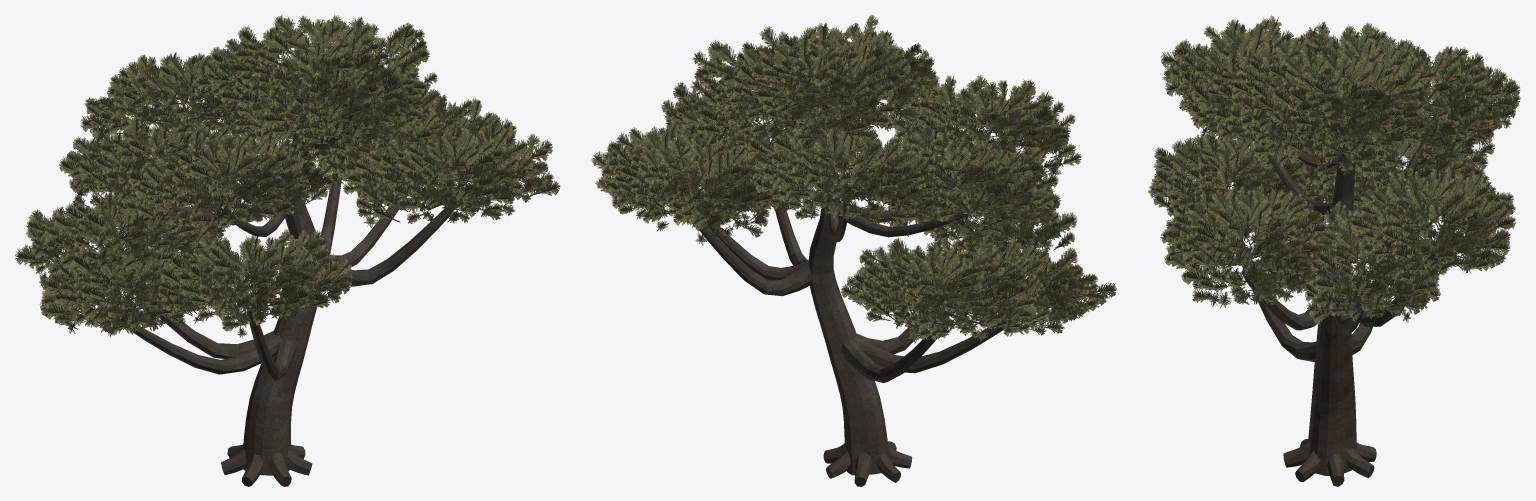
The model's file is pine-hero.glb.
3 renders of one model, left to right at view 1: azimuth 30°, elevation 25°; view 2: azimuth 150°, elevation 25°; view 3: azimuth 270°, elevation 25°, orthographic. The views are drawn at different scales.
Visible parts, largest first — view 1: pine-hero_Needles, pine-hero_Bark; view 2: pine-hero_Needles, pine-hero_Bark; view 3: pine-hero_Needles, pine-hero_Bark.
Part boxes in pixels (x1,y1,x2,y2): pine-hero_Needles: (15, 14, 560, 337); pine-hero_Bark: (121, 99, 467, 486); pine-hero_Needles: (590, 14, 1117, 343); pine-hero_Bark: (698, 91, 1011, 486); pine-hero_Needles: (1147, 14, 1520, 324); pine-hero_Bark: (1218, 113, 1436, 486).
Bounding box in the file's own units: 10 × 8 × 6.4.
Materials: 2 (2 with a texture image).
